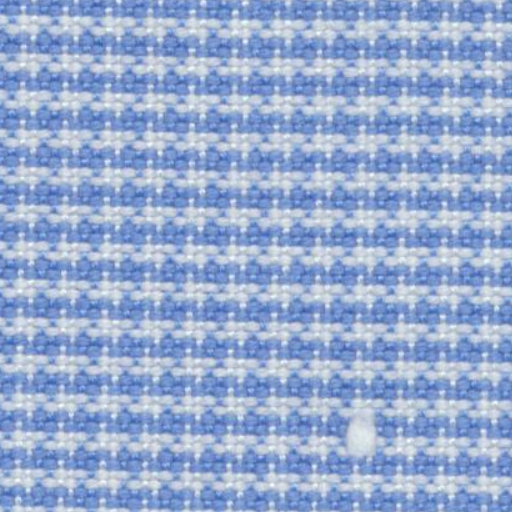MianQiu: (329, 390, 398, 458)
